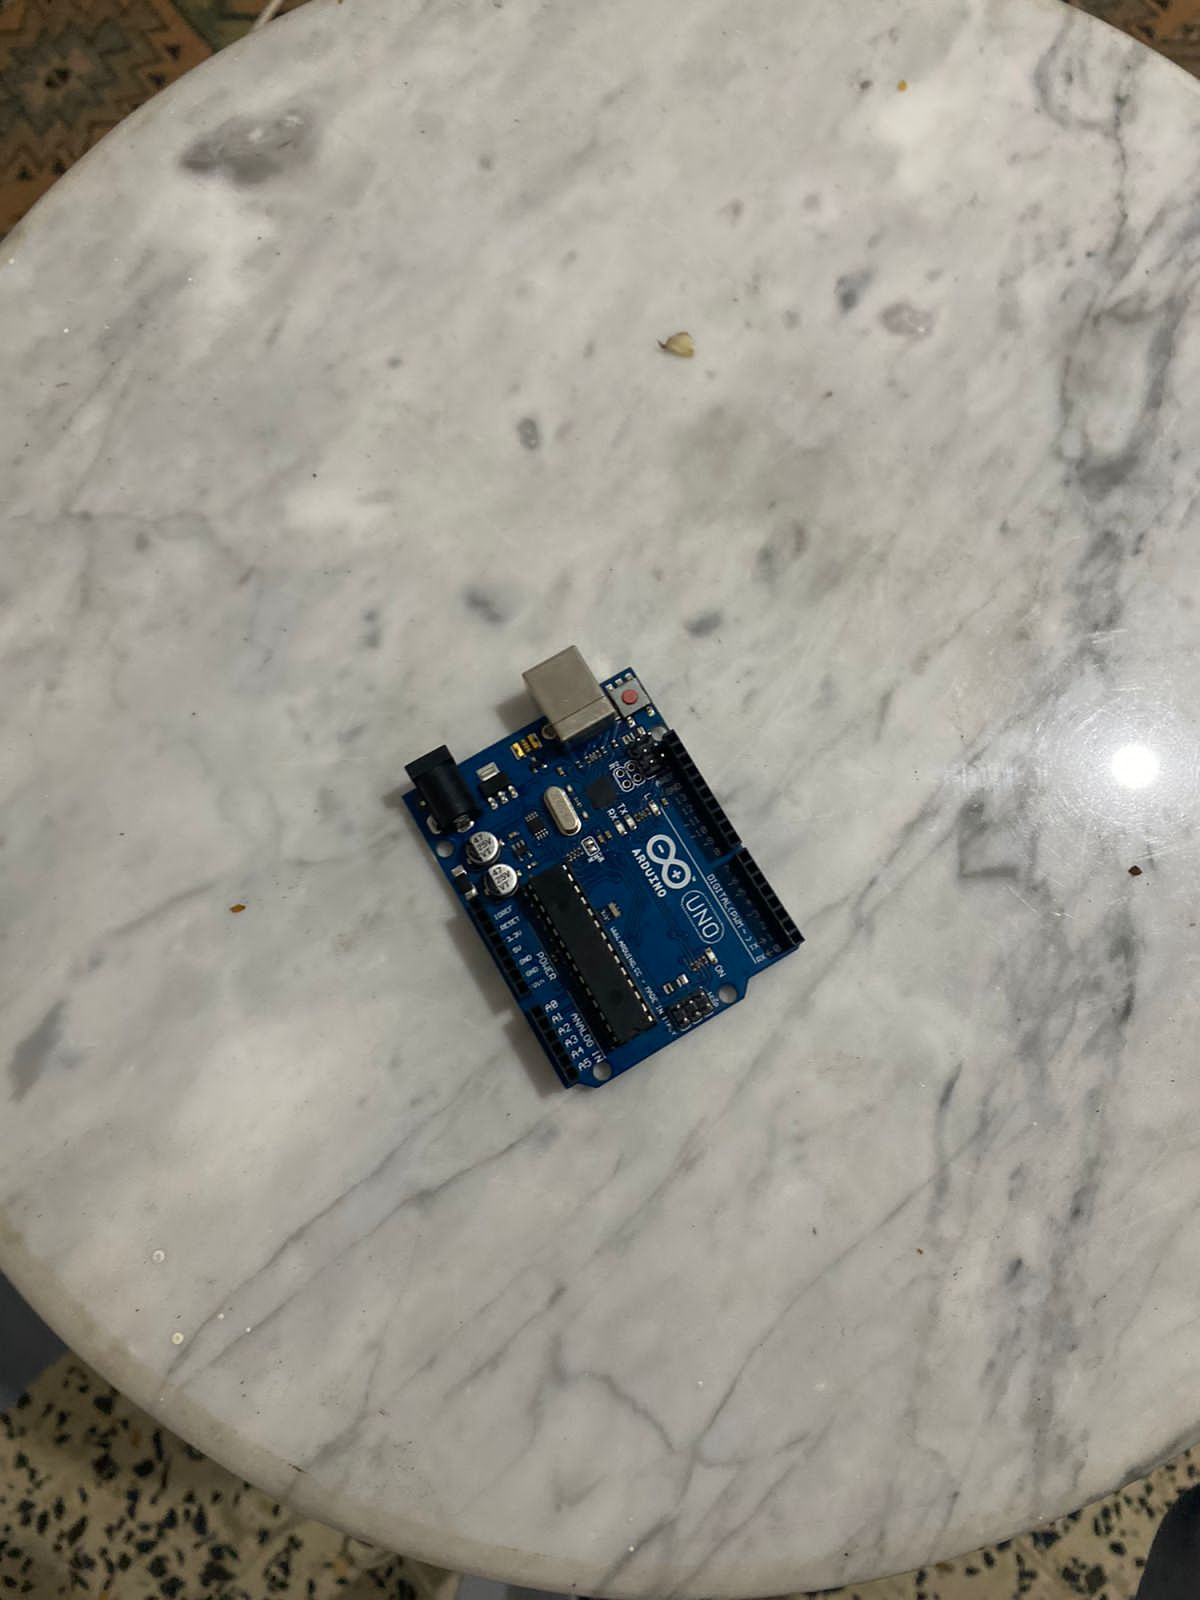arduino-uno: (400, 640, 805, 1099)
